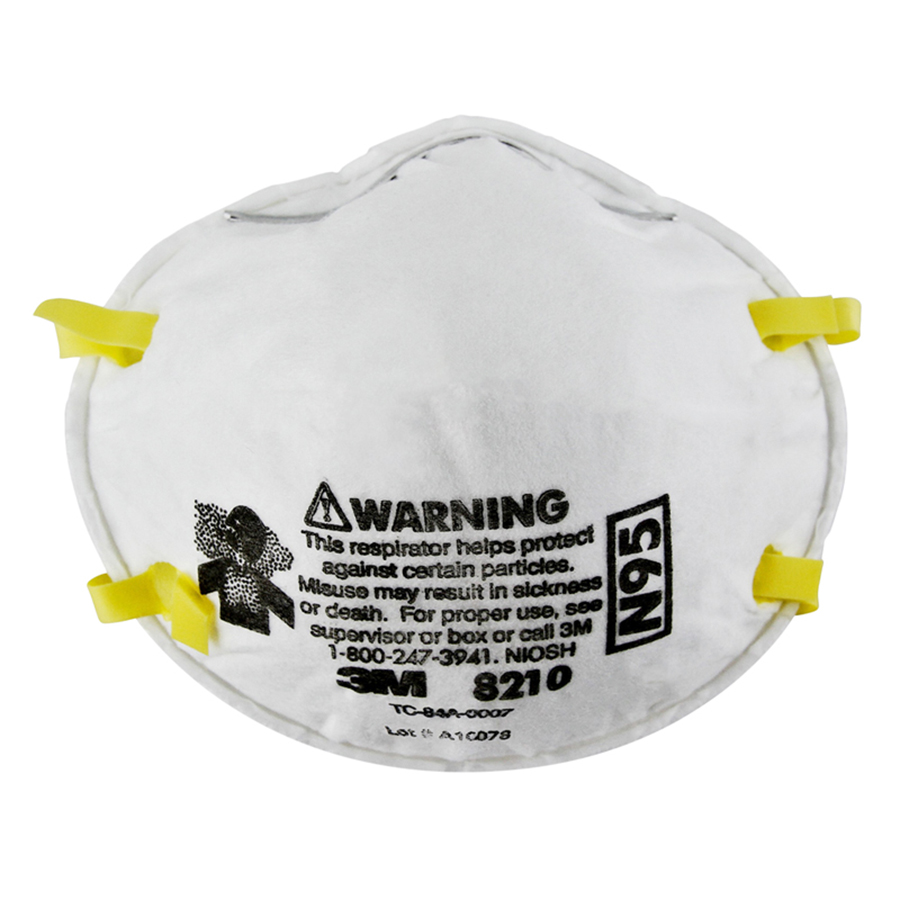3M: (331, 658, 432, 702)
